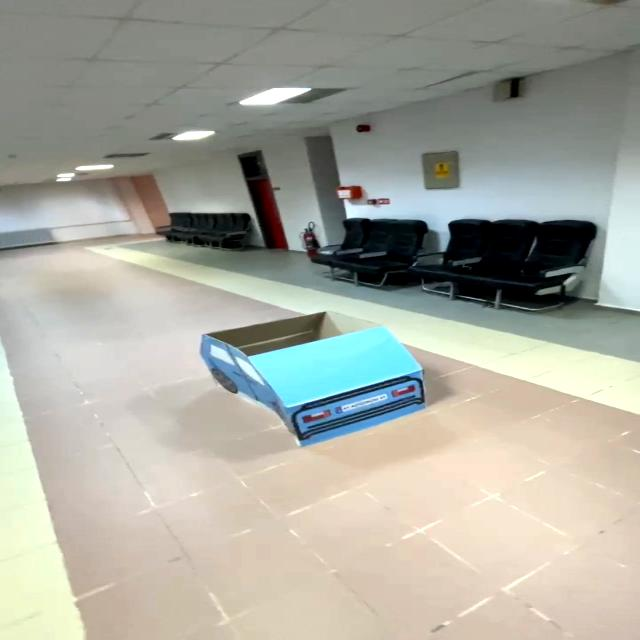blue_car: (169, 299, 455, 456)
